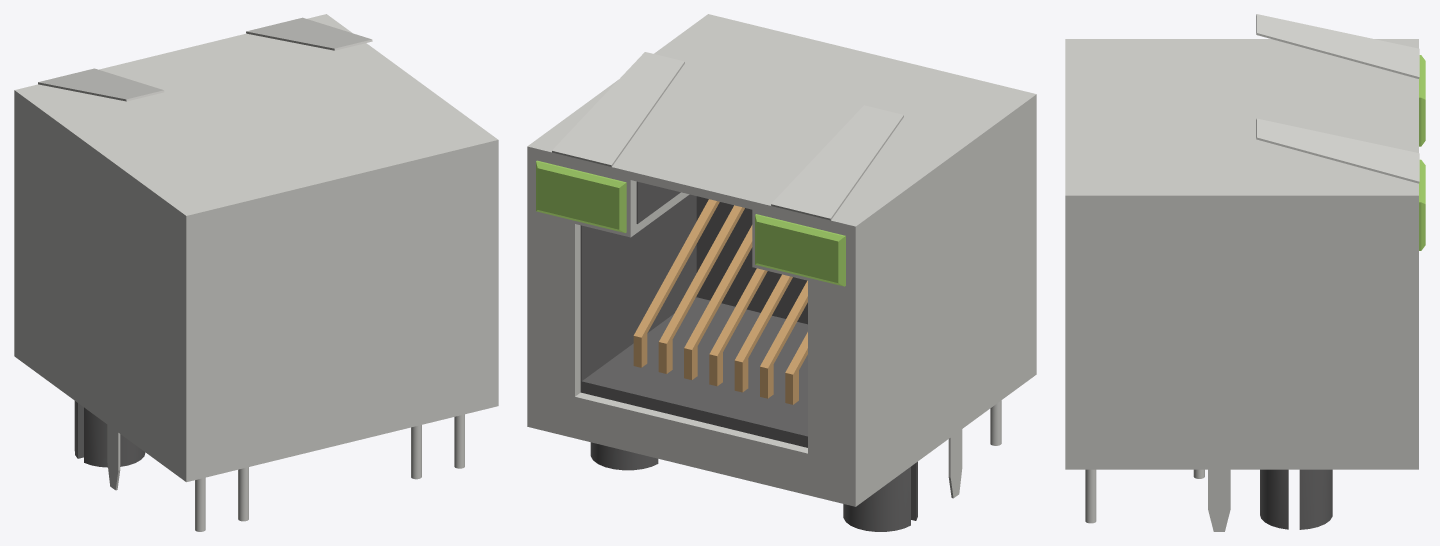
3 renders of one model, left to right at view 1: azimuth 30°, elevation 25°; view 2: azimuth 150°, elevation 25°; view 3: azimuth 270°, elevation 25°, orthographic. The views are drawn at different scales.
Visible parts, largest first — view 1: PIN-01, IC-BODY-EPOXY-04; view 2: PIN-01, IC-BODY-EPOXY-04, MET-BRONZE, LED-GREEN; view 3: PIN-01, IC-BODY-EPOXY-04, LED-GREEN.
Part boxes in pixels (x1,y1,x2,y2): PIN-01: (14, 14, 498, 531); IC-BODY-EPOXY-04: (74, 401, 145, 467); PIN-01: (527, 14, 1036, 506); IC-BODY-EPOXY-04: (580, 181, 917, 531); MET-BRONZE: (633, 199, 807, 404); LED-GREEN: (536, 160, 845, 286); PIN-01: (1065, 14, 1419, 531); IC-BODY-EPOXY-04: (1260, 469, 1332, 529); LED-GREEN: (1419, 55, 1425, 250).
Size of the model in its own units: 0.1326 by 0.15 by 0.1289.
